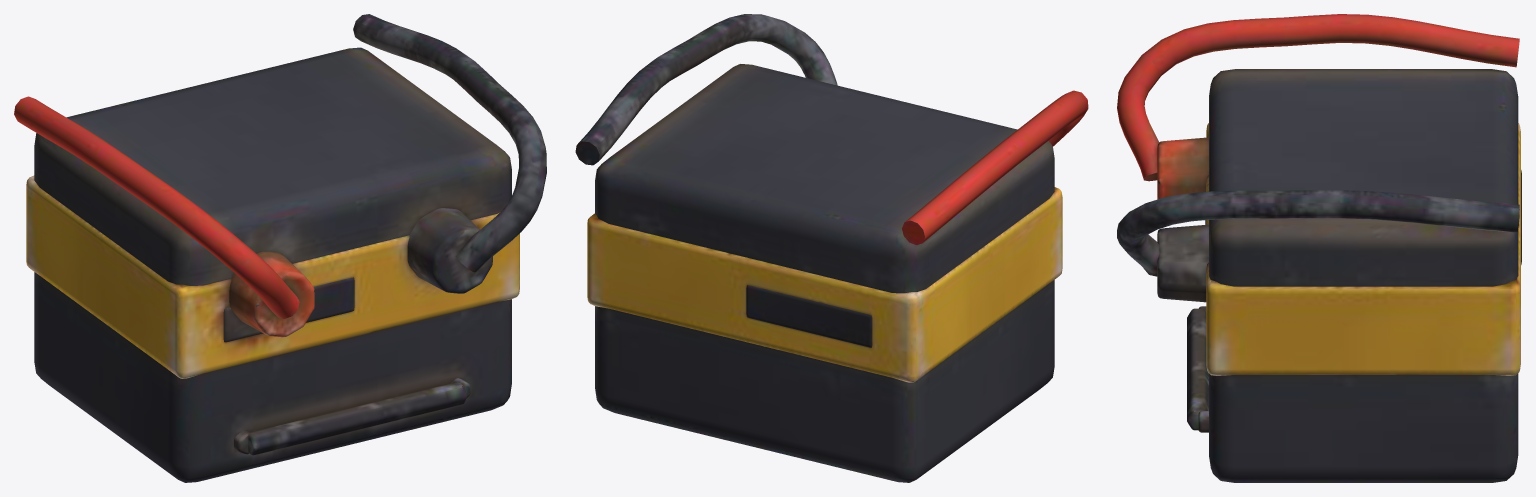
Rendered from battery.glb.
3 views of the same model, side by side, from view 1: azimuth 30°, elevation 25°; view 2: azimuth 150°, elevation 25°; view 3: azimuth 270°, elevation 25° (orthographic). The views are drawn at different scales.
Visible parts, largest first — view 1: body; view 2: body; view 3: body.
Part boxes in pixels (box(x1,y1,x2,y2)): body: box(14, 14, 546, 482); body: box(575, 14, 1088, 482); body: box(1117, 14, 1521, 482).
Bounding box in the file's own units: 0.4317 × 0.3246 × 0.3925.
1 material, 1 textured.
